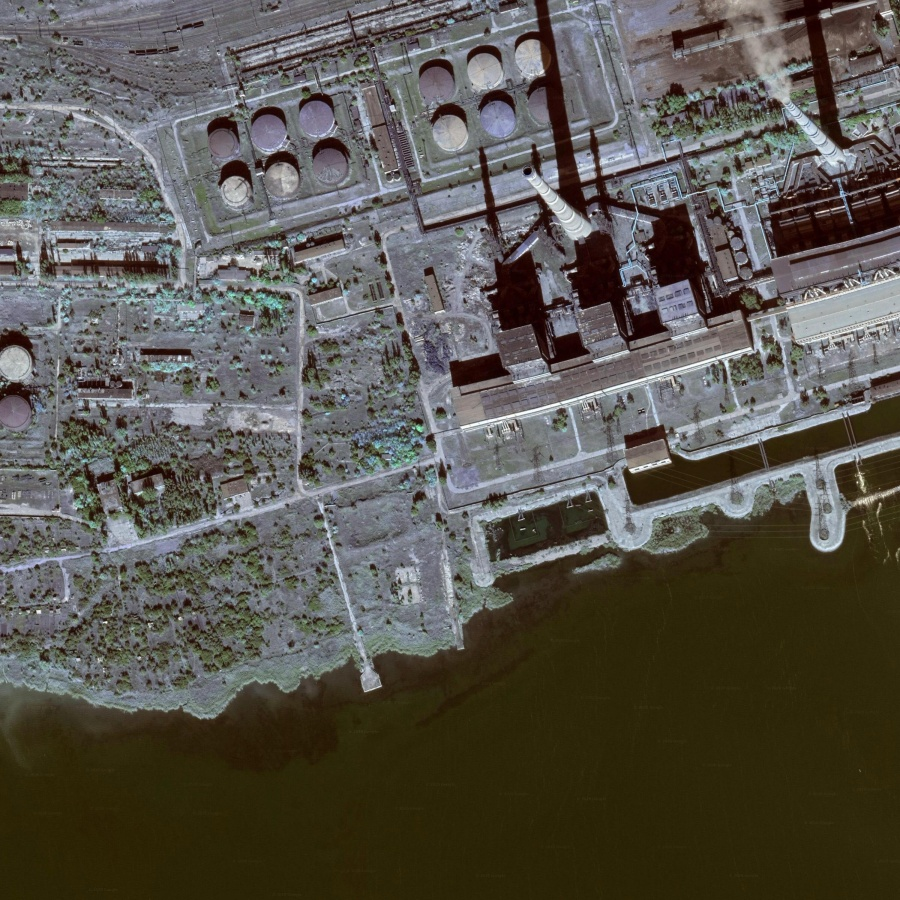PowerPlant: (170, 70, 377, 246)
